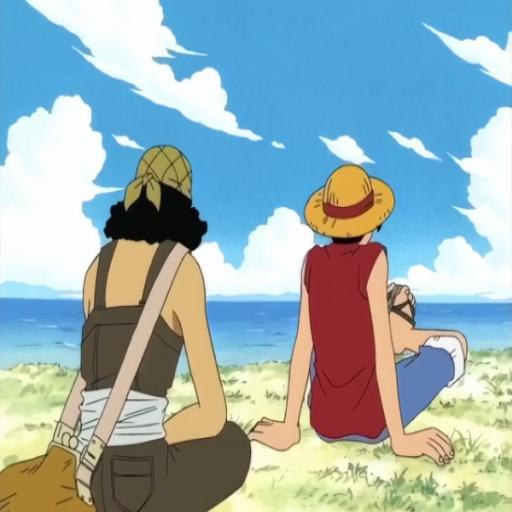Luffy: (240, 144, 484, 482)
Usopp: (46, 142, 253, 512)
